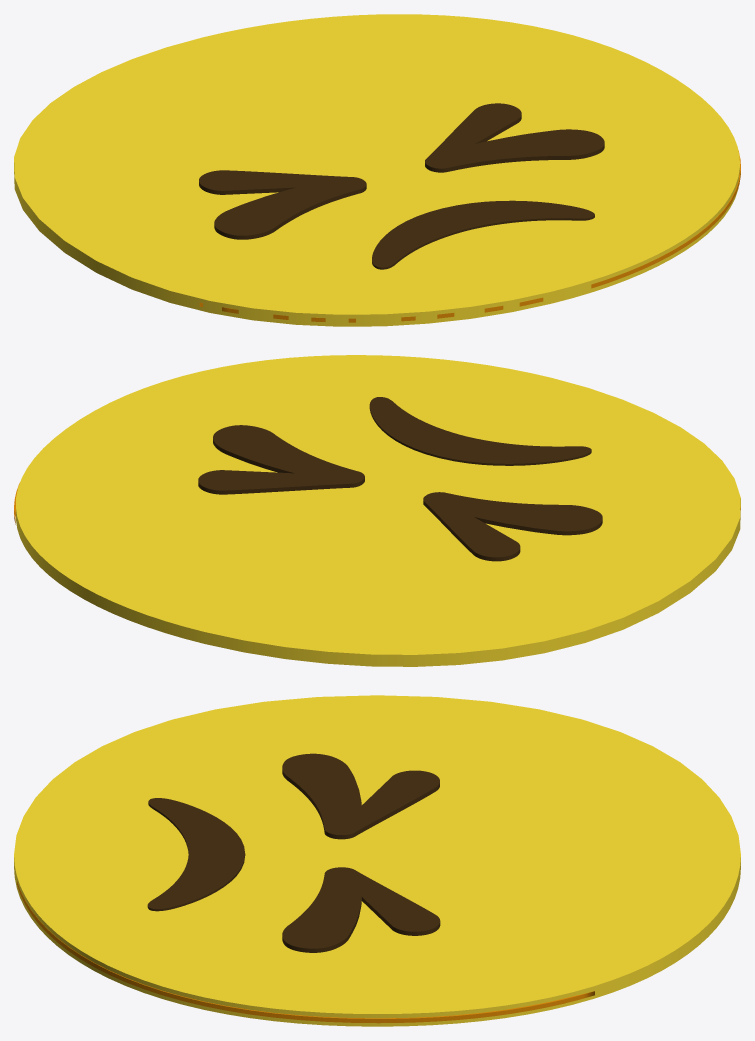
Rendered from emoji_u1f623.glb.
3 renders of one model, top to bottom at view 1: azimuth 30°, elevation 25°; view 2: azimuth 150°, elevation 25°; view 3: azimuth 270°, elevation 25°, orthographic. The views are drawn at different scales.
Parts seen in each view (by area): view 1: emoji_u1f623; view 2: emoji_u1f623; view 3: emoji_u1f623.
Boxes of the visible parts, <box> form: emoji_u1f623: <box>14,14,740,326</box>; emoji_u1f623: <box>14,355,740,666</box>; emoji_u1f623: <box>14,695,740,1026</box>.
Bounding box in the file's own units: 0.0327 × 0.001 × 0.0315.
